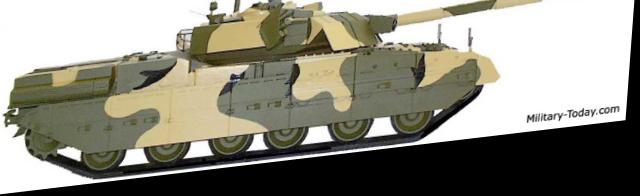tank: (3, 0, 510, 192)
